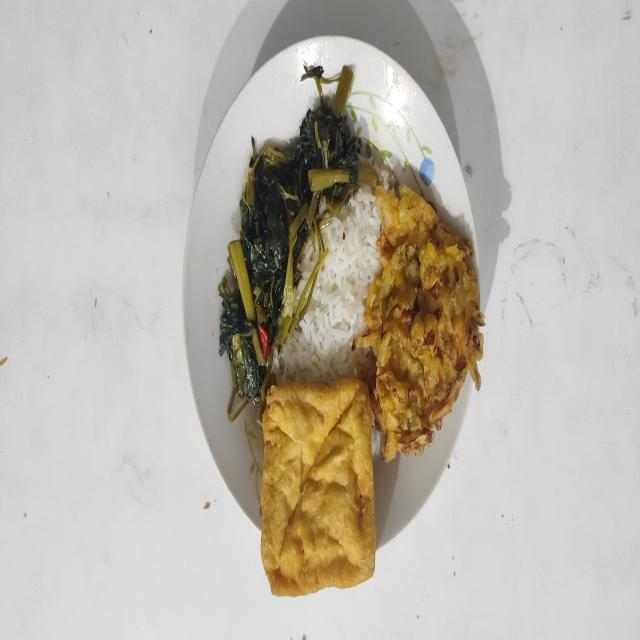nasi_putih: (272, 187, 382, 386)
tahu_goreng: (261, 378, 376, 596)
tumis_kangkung: (218, 66, 380, 421)
